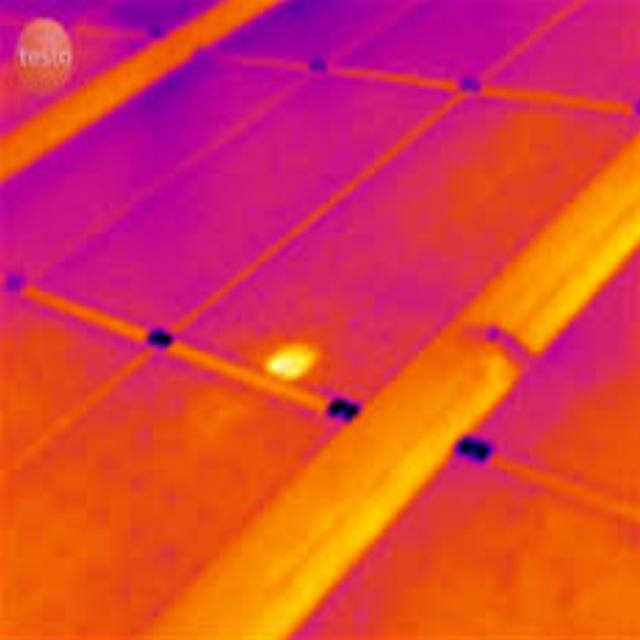hotspot group: (263, 337, 332, 383)
panel with hotspots: (169, 87, 640, 427)
